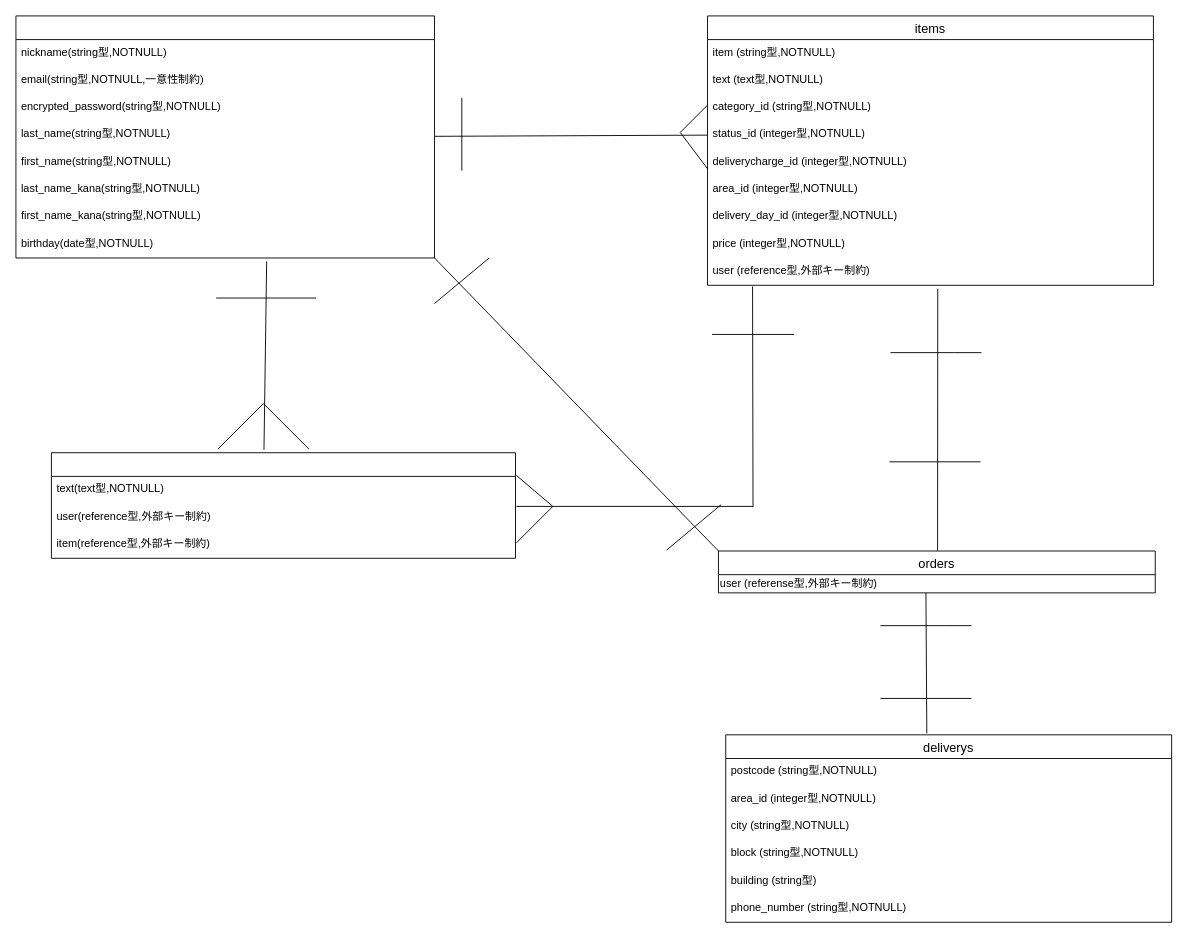
Image size: 1188x941. Some labels were removed from this diagram. Here are the shapes that lost their labels. From the top down, the box of each, then its label:
(15, 15, 435, 258): users
(51, 452, 516, 558): comments
